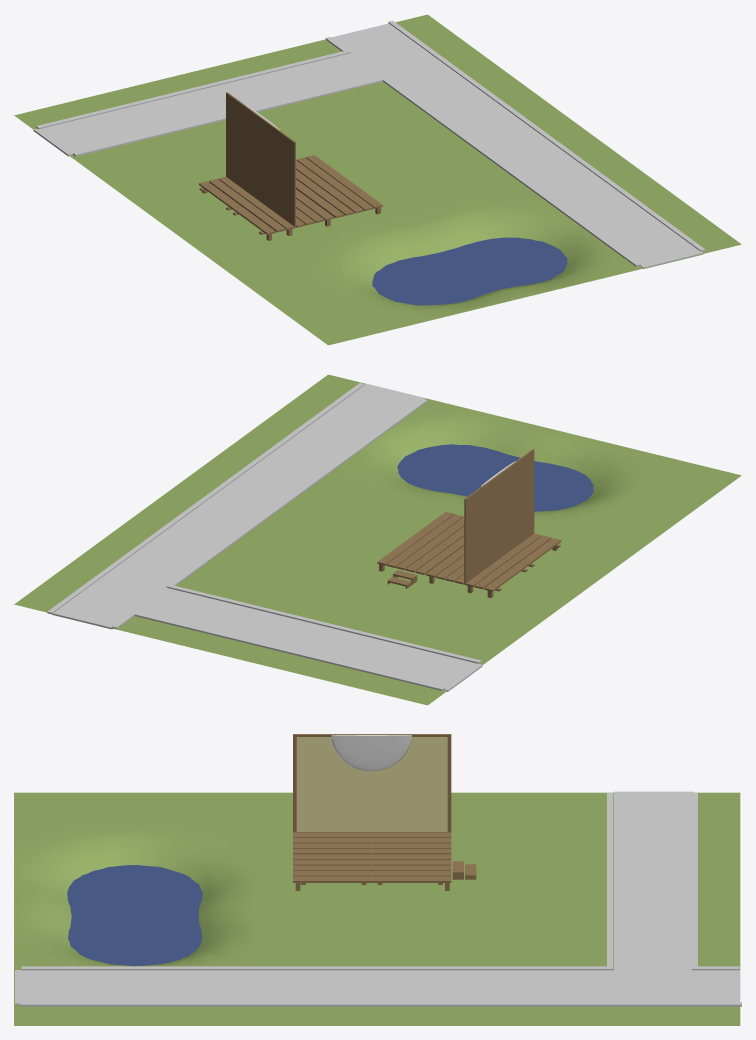
The model's file is levelDesign.fbx.
3 views of the same model, one above another, from view 1: azimuth 30°, elevation 25°; view 2: azimuth 150°, elevation 25°; view 3: azimuth 270°, elevation 25° (orthographic). The views are drawn at different scales.
Parts seen in each view (by area): view 1: pPlane1, pasted__pasted__pasted__pCube1 (×4), pasted__pasted__pasted__pasted__pCube1 (×3), pPlane2, pasted__pasted__pCube1 (×2), pasted__pCube1; view 2: pPlane1, pasted__pasted__pasted__pCube1 (×4), pasted__pasted__pasted__pasted__pCube1 (×3), pPlane2, pasted__pasted__pCube1 (×2), pasted__pCube1; view 3: pPlane1, pasted__pasted__pasted__pCube1 (×5), pasted__pasted__pasted__pasted__pCube1 (×4), pasted__pasted__pasted__pasted__pasted__pCube1, pPlane2, pasted__pasted__pCube1 (×4), pSphere2, pasted__pCube1.
Boxes of the visible parts, bbox=[...] form: pPlane1: bbox=[14, 14, 741, 345]; pasted__pasted__pasted__pCube1 (×4): bbox=[73, 20, 705, 269]; pasted__pasted__pasted__pasted__pCube1 (×3): bbox=[33, 50, 382, 228]; pPlane2: bbox=[372, 237, 567, 305]; pasted__pasted__pCube1 (×2): bbox=[296, 77, 640, 266]; pasted__pCube1: bbox=[306, 155, 382, 208]; pPlane1: bbox=[14, 374, 741, 705]; pasted__pasted__pasted__pCube1 (×4): bbox=[47, 383, 551, 663]; pasted__pasted__pasted__pasted__pCube1 (×3): bbox=[130, 449, 534, 691]; pPlane2: bbox=[397, 444, 593, 511]; pasted__pasted__pCube1 (×2): bbox=[166, 399, 464, 588]; pasted__pCube1: bbox=[377, 512, 454, 565]; pPlane1: bbox=[14, 792, 740, 1025]; pasted__pasted__pasted__pCube1 (×5): bbox=[15, 793, 741, 1006]; pasted__pasted__pasted__pasted__pCube1 (×4): bbox=[293, 734, 697, 970]; pasted__pasted__pasted__pasted__pasted__pCube1: bbox=[296, 737, 447, 831]; pPlane2: bbox=[67, 865, 202, 966]; pasted__pasted__pCube1 (×4): bbox=[21, 843, 613, 970]; pSphere2: bbox=[331, 735, 411, 771]; pasted__pCube1: bbox=[293, 876, 451, 882].
Size of the model in its own units: 13.64 by 4.21 by 17.98.
